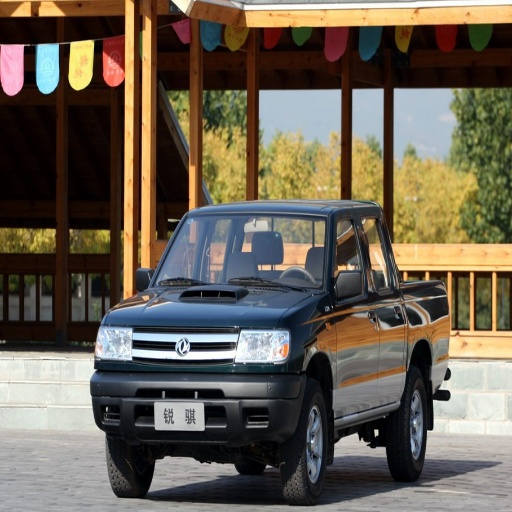front_bumper: (93, 327, 302, 443)
front_glass: (150, 213, 334, 293)
front_left_door: (333, 241, 379, 415)
trunk: (394, 284, 445, 369)
